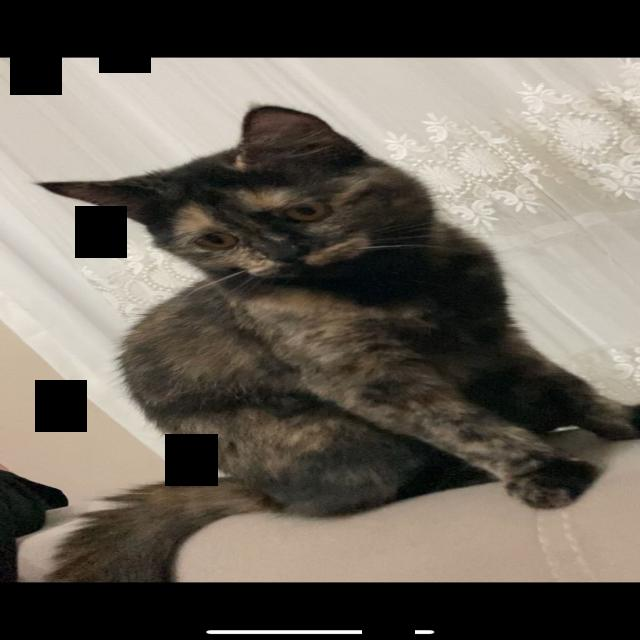authorized: (32, 104, 638, 582)
